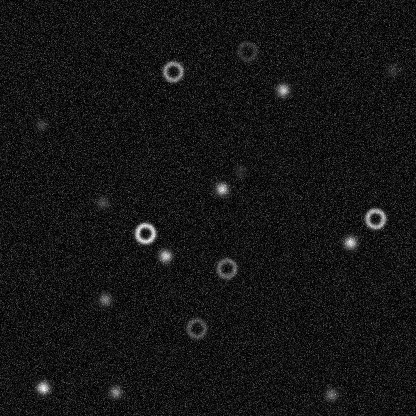Ring: (160, 59, 184, 83), (363, 206, 387, 230), (235, 39, 259, 63), (133, 221, 157, 245), (214, 256, 238, 280), (184, 316, 208, 340)
Spot: (342, 234, 358, 250), (323, 386, 339, 402), (34, 379, 50, 395), (107, 383, 123, 399), (157, 247, 173, 263), (231, 162, 247, 178), (96, 291, 112, 307), (274, 81, 290, 97), (94, 194, 110, 210), (384, 62, 400, 78), (213, 180, 229, 196), (33, 116, 49, 132)
